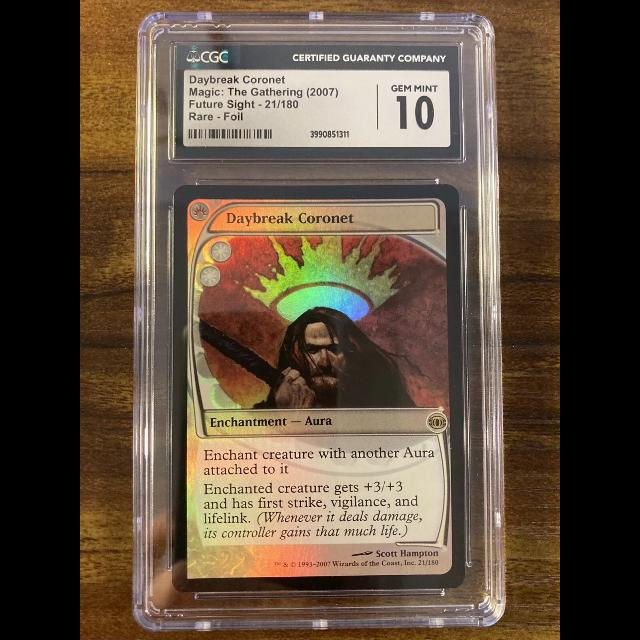card: (171, 184, 466, 593)
cgc_label: (175, 43, 461, 160)
cgc_slab: (131, 11, 509, 631)
